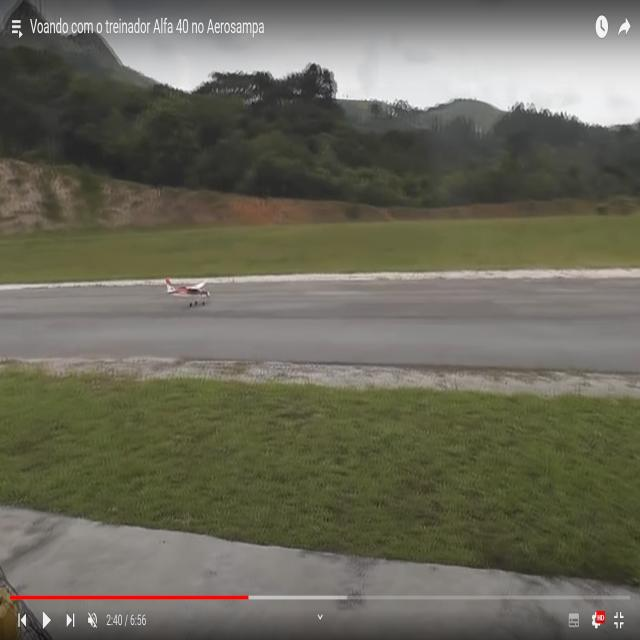iha: (165, 277, 211, 309)
